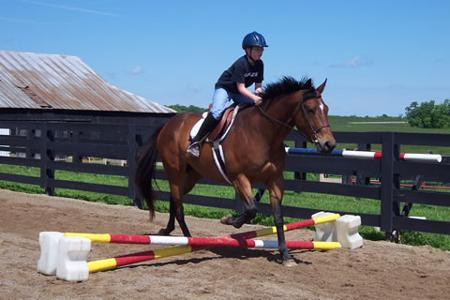person: (188, 31, 271, 159)
